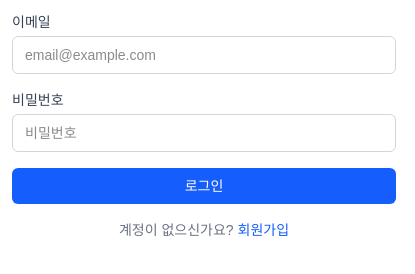
Test: LoginForm › 비밀번호가 8자 미만이면 에러 메시지를 표시한다
Step 1. Type "test@example.com" into the field labelled "이메일" → [204, 55], box [12,36,396,74]
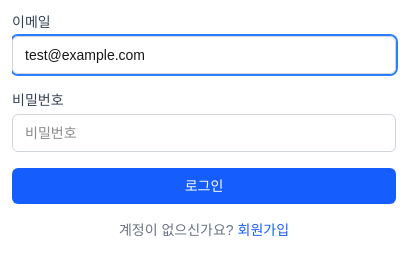
Step 2. Type "short" into the password field labelled "비밀번호" → [204, 133], box [12,114,396,152]
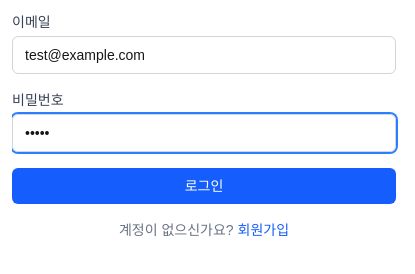
Step 3. Click the button "로그인" → [204, 186], box [12,168,396,204]
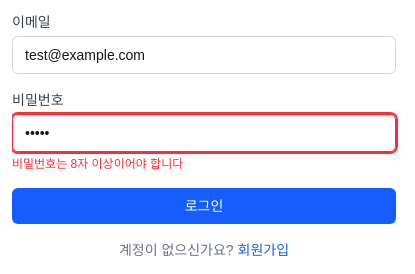
expect the text "비밀번호는 8자 이상이어야 합니다" is shown: met, box [12,157,183,171]
